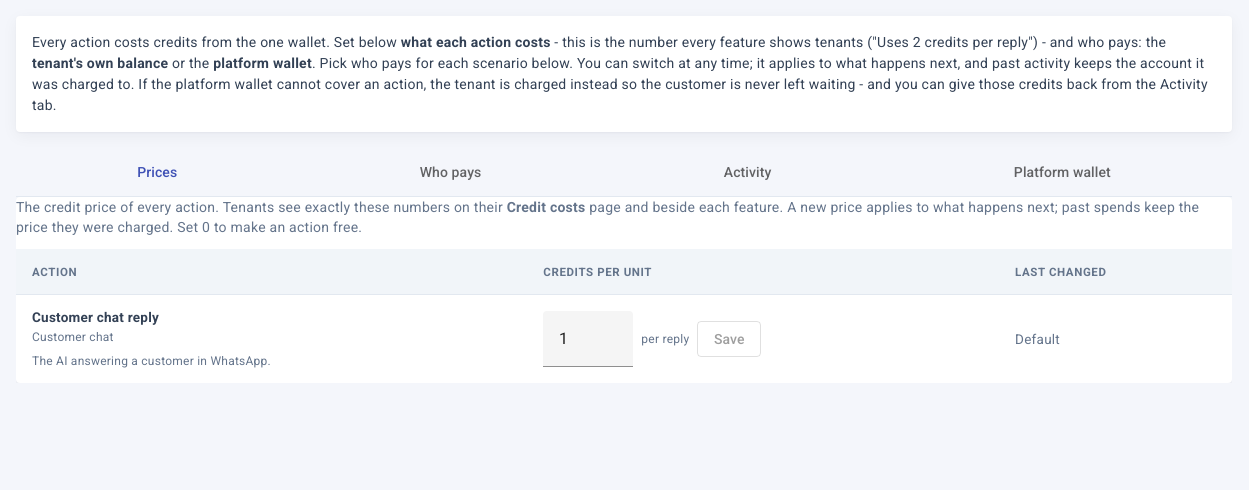
Test case: PlatformCreditPayersComponent › shows who paid for each spend, and flags the ones where the tenant paid because the platform wallet was empty
The image size is (1249, 490).
Click the tab "Activity". click: (748, 172)
box: [724,164,772,180]
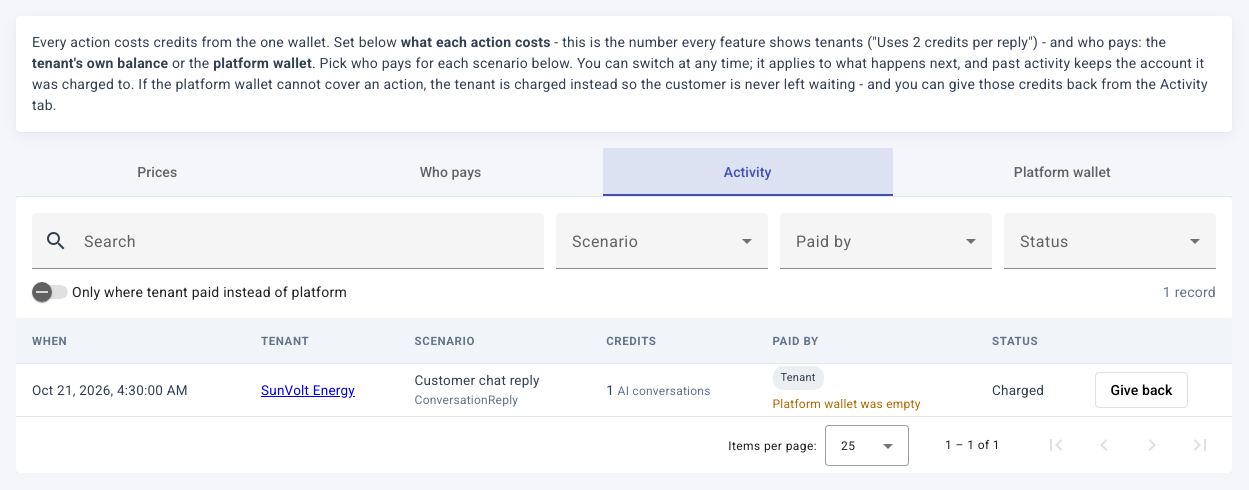
Expected: the text "SunVolt Energy" is shown, [261,382,355,398]
Expected: the text "Platform wallet was empty" is shown, [772,397,921,411]
